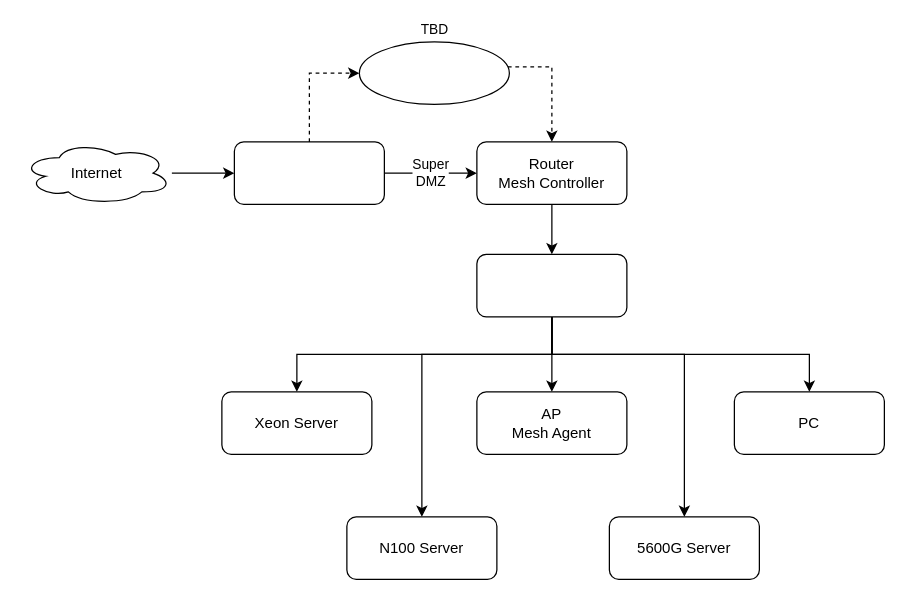
This 906x601 diagram has some shape labels left out. The centre of each missing label's shape, as x and y in pixels:
LG U+ Modem+Router: point (308, 172)
Network Switch: point (551, 285)
pfsense FireWall: point (433, 72)
